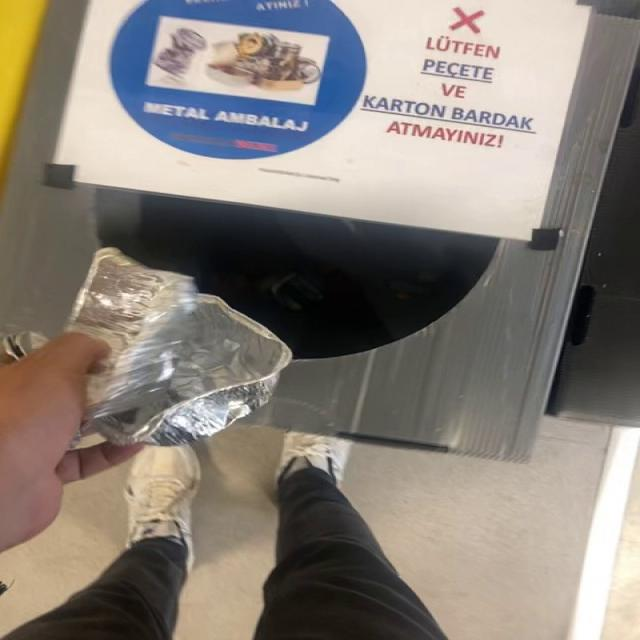metal: (65, 248, 292, 446)
